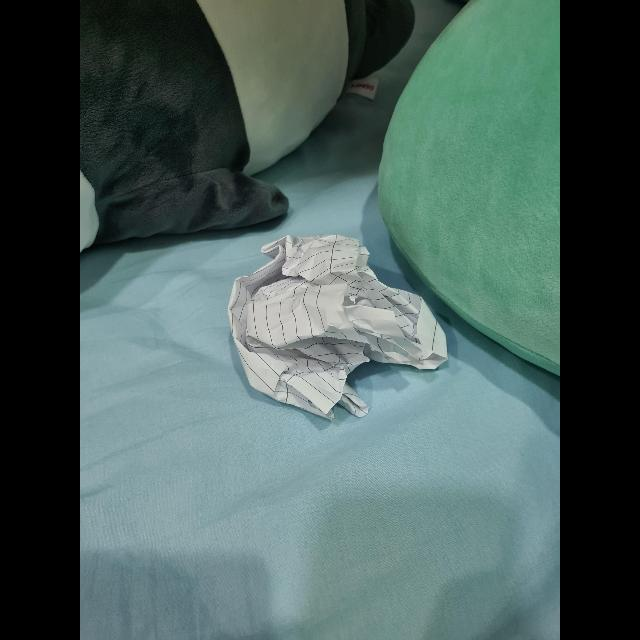scrap_paper: (232, 236, 452, 414)
